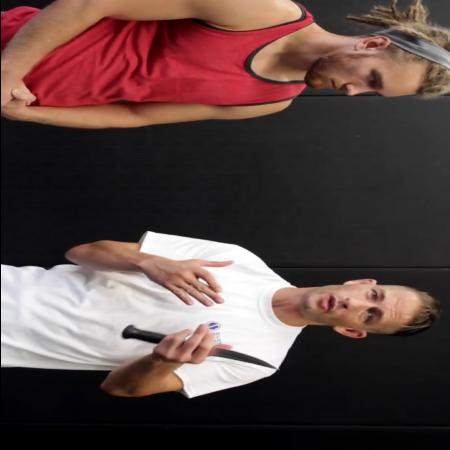long weapon: (113, 321, 286, 375)
